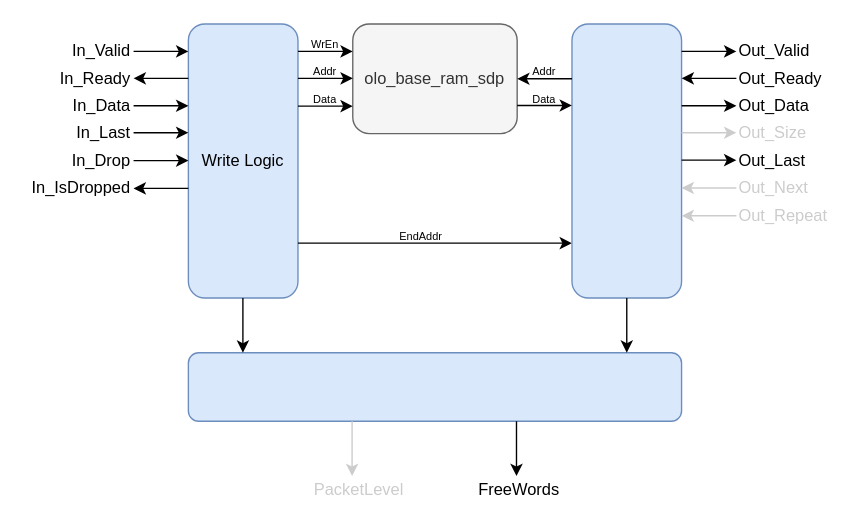
The diagram is 851 pixels wide and 527 high, and some of its shapes have lost their labels. Each missing label, with the centre of its shape:
Read Logic: the point at 626,160
Status Logic: the point at 434,386
